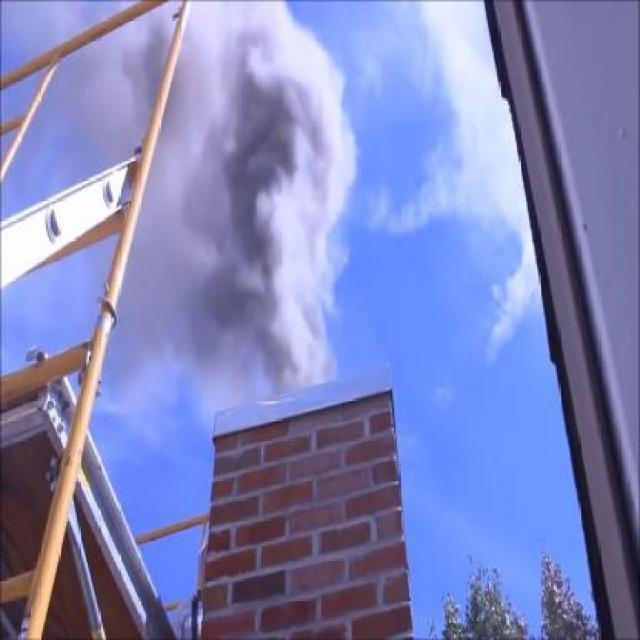smoke: (202, 6, 344, 389)
